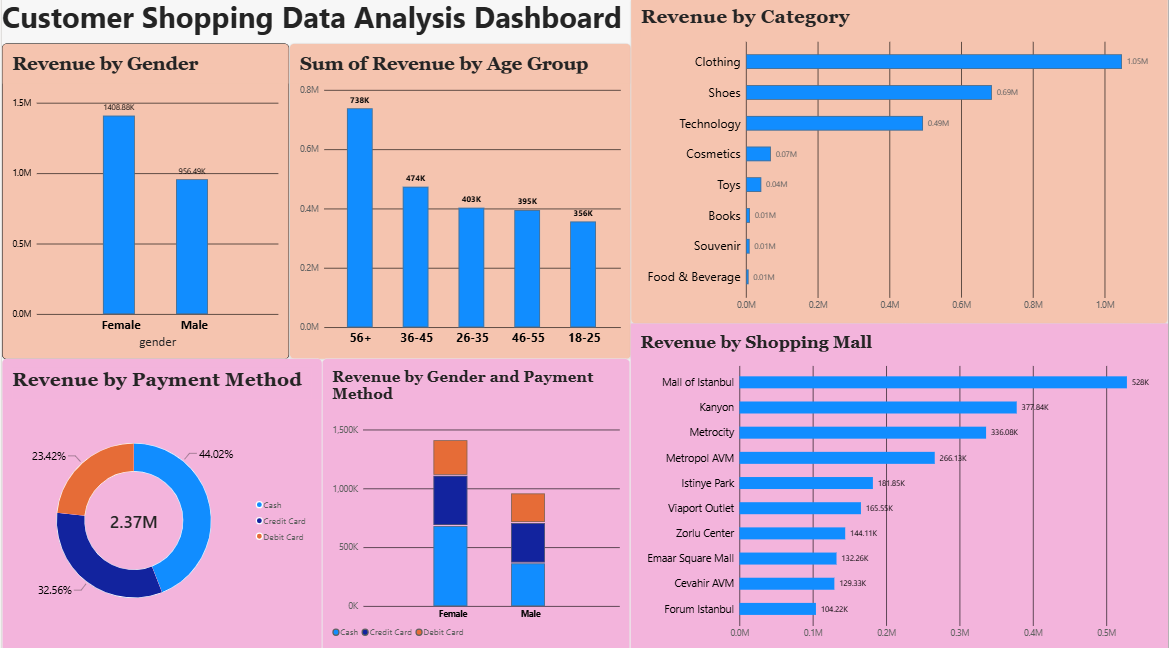

Layout of this report page (visuals, bound fields, positions):
{"tool":"powerbi","page":{"name":"Page 1","canvas":[1920,1080],"ordinal":0},"visuals":[{"type":"clusteredColumnChart","title":"Revenue by Gender","fields":{"Category":["customer_data.gender"],"Y":["Sum(customer_data.Revenue)"]},"box":[0,77.5,472.5,520],"z":0},{"type":"clusteredColumnChart","fields":{"Category":["customer_data.Age Group"],"Y":["Sum(customer_data.Revenue)"]},"box":[472.5,77.5,562.5,520],"z":1},{"type":"clusteredBarChart","title":"Revenue by Category","fields":{"Category":["customer_data.category"],"Y":["Sum(customer_data.Revenue)"]},"box":[1035,0,885,540],"z":2},{"type":"donutChart","title":"Revenue by Payment Method","fields":{"Category":["customer_data.payment_method"],"Y":["Sum(customer_data.Revenue)"]},"box":[0,597.5,527.5,482.5],"z":3},{"type":"columnChart","title":"Revenue by Gender and Payment Method","fields":{"Category":["customer_data.gender"],"Series":["customer_data.payment_method"],"Y":["Sum(customer_data.Revenue)"]},"box":[527.5,597.5,507.5,482.5],"z":4},{"type":"clusteredBarChart","title":"Revenue by Shopping Mall","fields":{"Category":["customer_data.shopping_mall"],"Y":["Sum(customer_data.Revenue)"]},"box":[1035,540,885,540],"z":5},{"type":"textbox","box":[0,0,1052.5,102.5],"z":6}]}

Visuals, with their boxes in screenshot pixels (x1, y1, x2, y2), scaled from the page's 1920x1080 canvas onto the 1169x648 screenshot:
"Revenue by Gender" clusteredColumnChart: 0,46,288,358
clusteredColumnChart - customer_data.Age Group x Sum(customer_data.Revenue): 288,46,630,358
"Revenue by Category" clusteredBarChart: 630,0,1168,324
"Revenue by Payment Method" donutChart: 0,358,321,647
"Revenue by Gender and Payment Method" columnChart: 321,358,630,647
"Revenue by Shopping Mall" clusteredBarChart: 630,324,1168,647
textbox: 0,0,641,62
